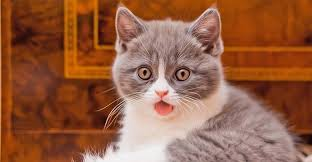kedi: (86, 1, 237, 161)
